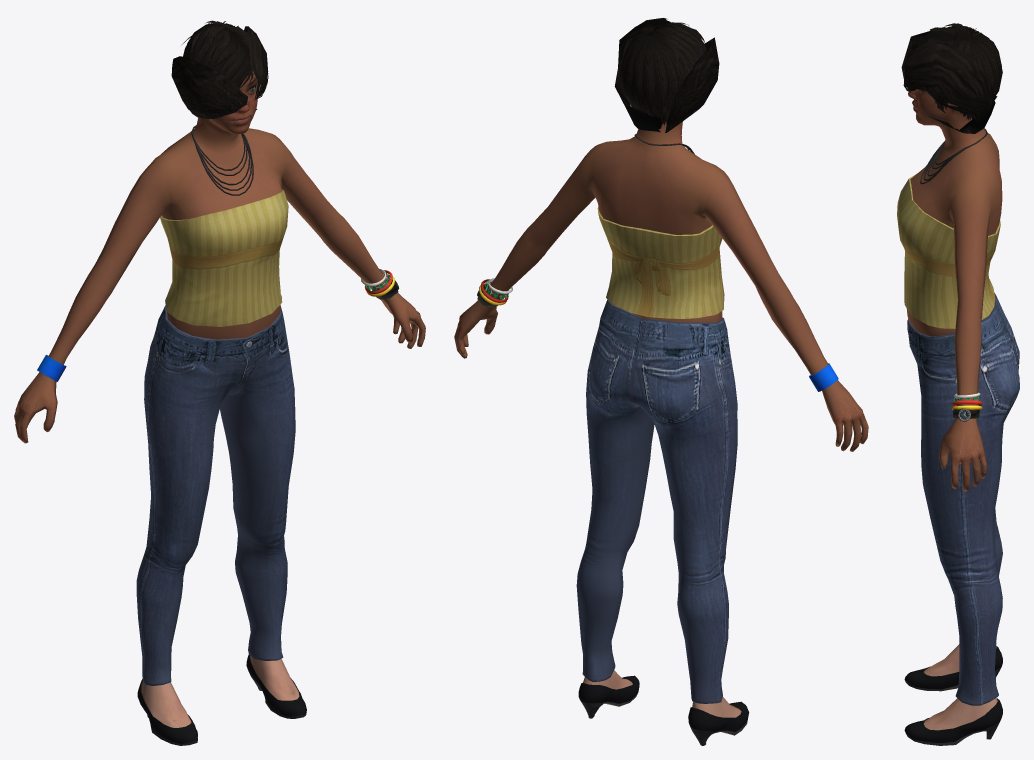
File: ped-genhot.glb
3 renders of one model, left to right at view 1: azimuth 30°, elevation 25°; view 2: azimuth 150°, elevation 25°; view 3: azimuth 270°, elevation 25°, orthographic.
Size of the model in its own units: 1.09 by 1.79 by 0.2876.
5 materials, 5 textured.
